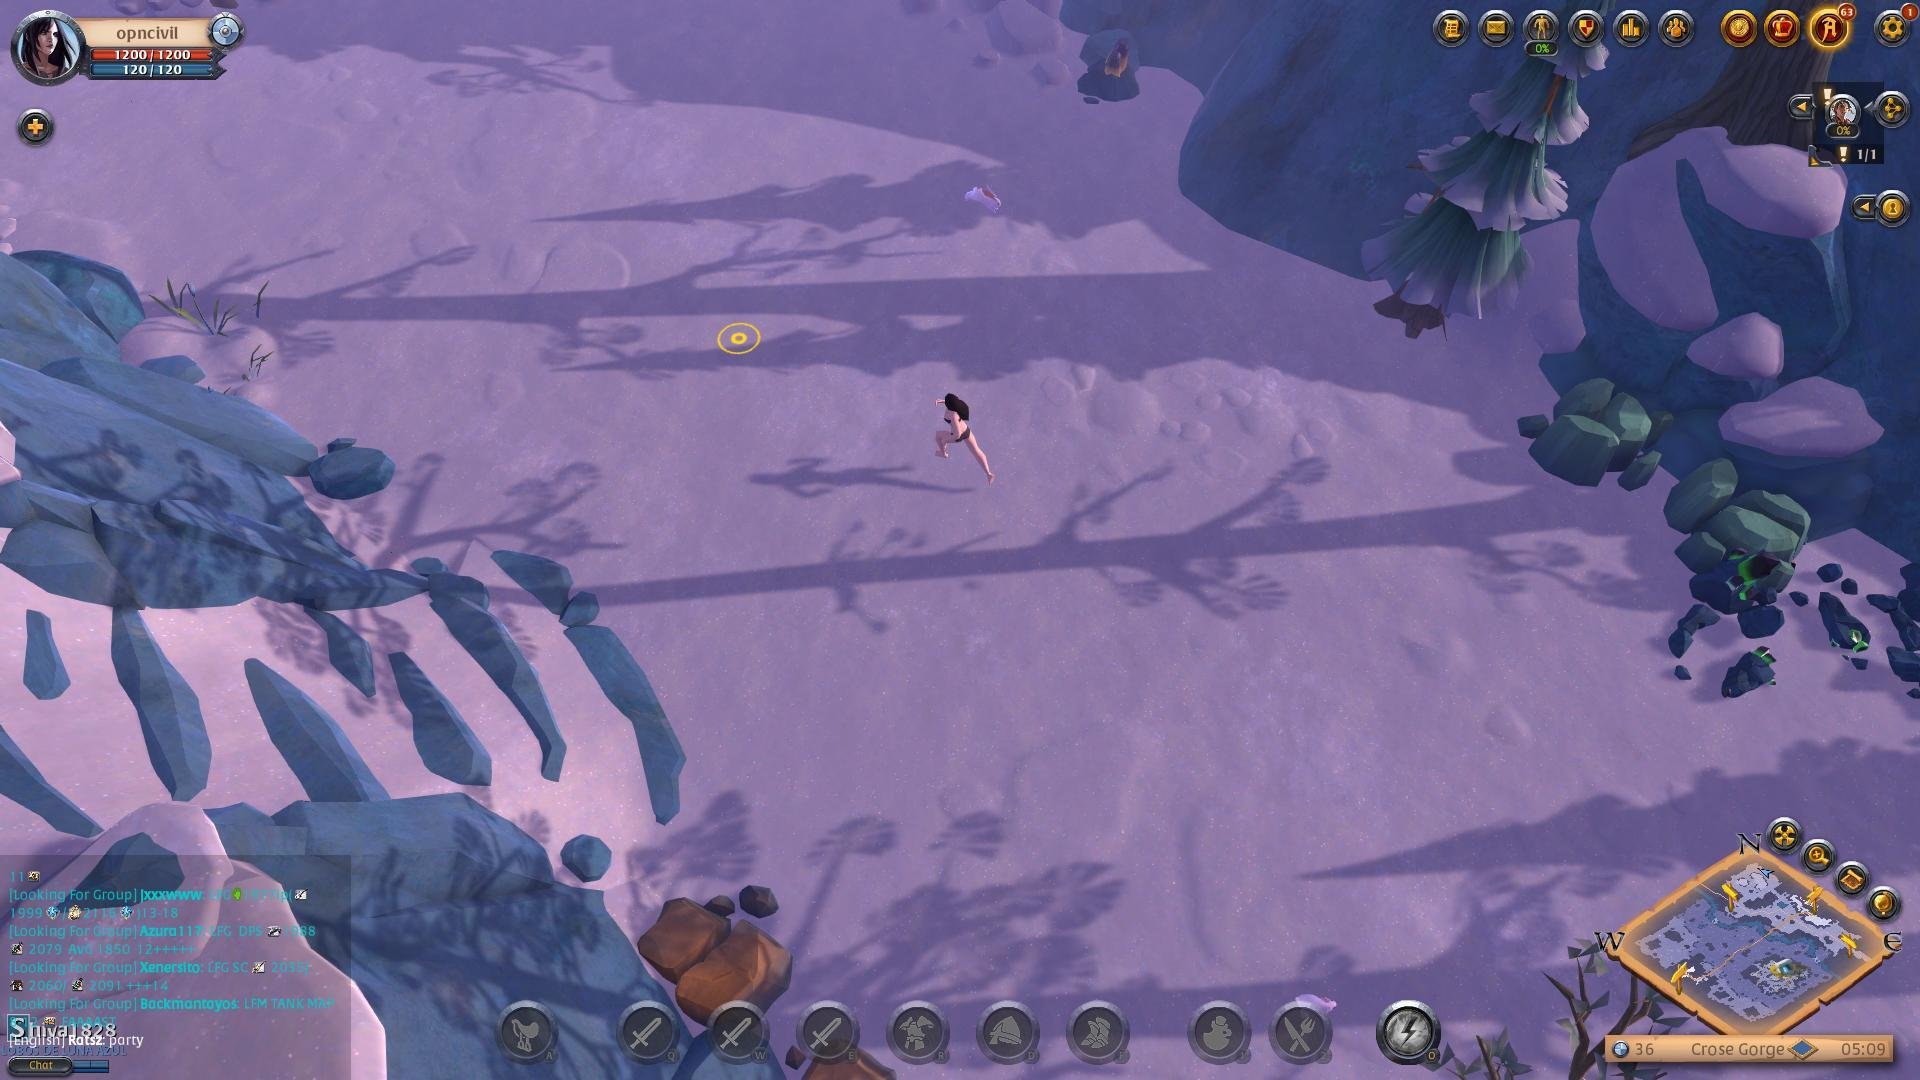copper_ore: (1069, 29, 1159, 109)
limestone: (629, 877, 799, 1027)
sandstone: (1506, 364, 1667, 517)
tin_ore: (1687, 545, 1780, 629)
